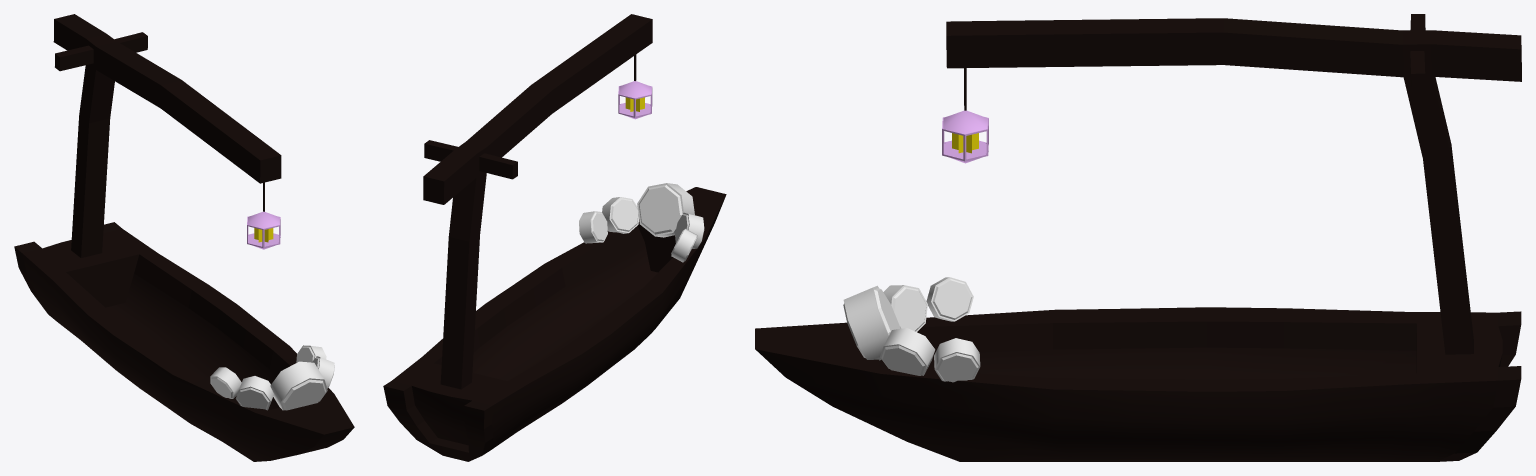
File: BarqueChétive.FBX
3 views of the same model, side by side, from view 1: azimuth 30°, elevation 25°; view 2: azimuth 150°, elevation 25°; view 3: azimuth 270°, elevation 25° (orthographic). The views are drawn at different scales.
Parts seen in each view (by area): view 1: Box001, Cylinder001, Sphere001, Cylinder002, Cylinder003, Cylinder004, Cylinder005; view 2: Box001, Cylinder001, Cylinder005, Sphere001, Cylinder004, Cylinder002, Cylinder003; view 3: Box001, Cylinder001, Sphere001, Cylinder005, Cylinder004, Cylinder003, Cylinder002.
Boxes of the visible parts, box(x1,y1,x2,y2) form: Box001: box(14, 14, 354, 461); Cylinder001: box(270, 361, 327, 410); Sphere001: box(247, 211, 280, 249); Cylinder002: box(235, 376, 273, 410); Cylinder003: box(210, 367, 241, 398); Cylinder004: box(296, 345, 326, 362); Cylinder005: box(312, 356, 334, 388); Box001: box(383, 14, 726, 461); Cylinder001: box(637, 183, 694, 237); Cylinder005: box(602, 197, 638, 233); Sphere001: box(618, 81, 652, 119); Cylinder004: box(579, 211, 607, 243); Cylinder002: box(675, 212, 704, 248); Cylinder003: box(671, 228, 697, 262); Box001: box(755, 14, 1521, 461); Cylinder001: box(843, 285, 900, 360); Sphere001: box(942, 110, 988, 163); Cylinder005: box(880, 328, 935, 375); Cylinder004: box(934, 338, 980, 382); Cylinder003: box(926, 277, 973, 321); Cylinder002: box(883, 285, 927, 331).
Size of the model in its own units: 1.13 by 2.63 by 4.27.
